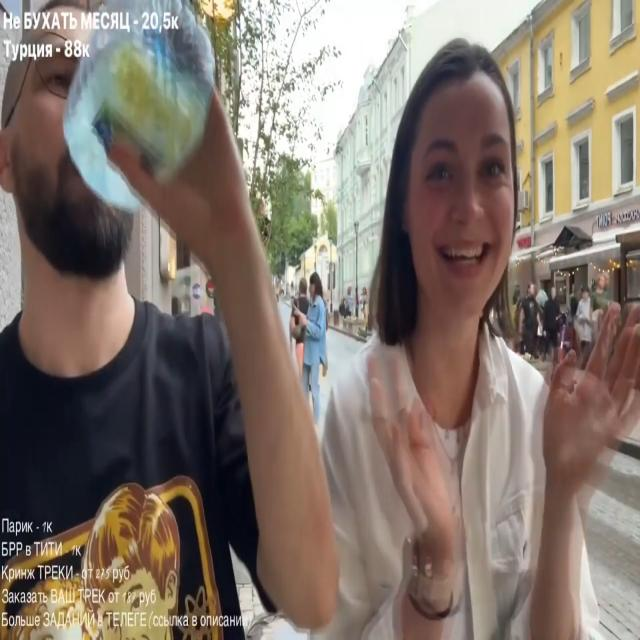Person: (236, 30, 637, 635), (0, 12, 337, 634), (295, 278, 328, 410), (517, 284, 541, 360), (573, 286, 595, 366)
